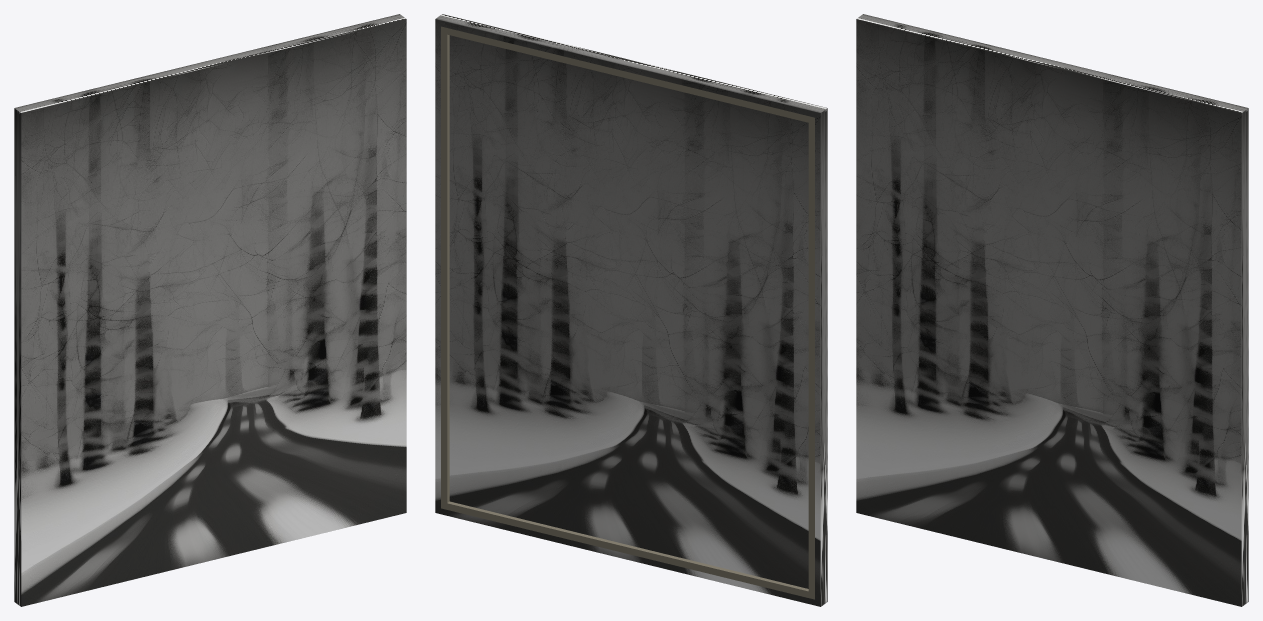
Rendered from Canvas 2.fbx.
3 views of the same model, side by side, from view 1: azimuth 30°, elevation 25°; view 2: azimuth 150°, elevation 25°; view 3: azimuth 330°, elevation 25° (orthographic).
Parts seen in each view (by area): view 1: Canvas_Large; view 2: Canvas_Large; view 3: Canvas_Large.
Part boxes in pixels (x1=…): Canvas_Large: x1=14, y1=14, x2=406, y2=606; Canvas_Large: x1=435, y1=14, x2=827, y2=606; Canvas_Large: x1=856, y1=14, x2=1248, y2=606.
Bounding box in the file's own units: 138 × 169 × 4.36.
2 materials, 1 textured.
